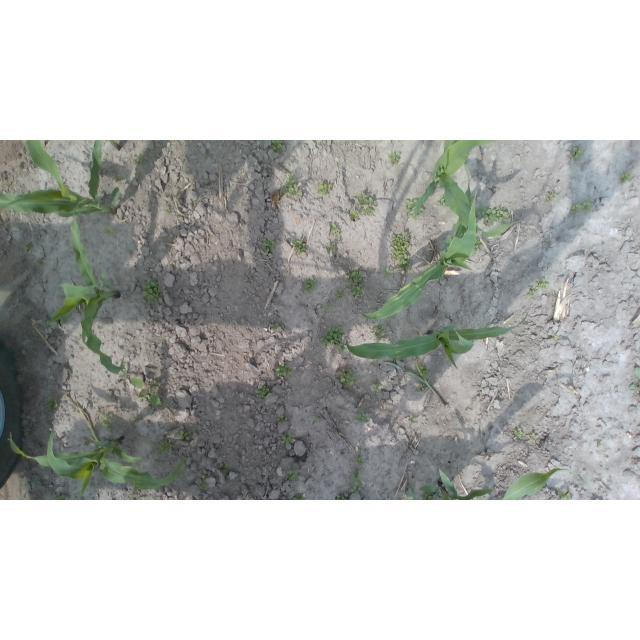Maize: (363, 165, 520, 319), (46, 198, 124, 374), (9, 428, 186, 500), (0, 140, 120, 216), (347, 313, 527, 363), (411, 140, 495, 220), (403, 466, 589, 500), (386, 358, 446, 406), (104, 140, 120, 150)
Weeds: (389, 231, 413, 274), (131, 377, 162, 408), (475, 205, 510, 227), (142, 276, 163, 305), (346, 267, 365, 297), (355, 192, 377, 216), (320, 327, 345, 348), (280, 174, 302, 197), (404, 198, 425, 220), (336, 368, 357, 389), (256, 386, 273, 405), (155, 439, 175, 455), (572, 201, 593, 215), (275, 362, 293, 378), (316, 181, 333, 197), (629, 368, 640, 391), (304, 276, 317, 295), (370, 324, 384, 341), (262, 237, 276, 253), (285, 464, 299, 480), (572, 147, 587, 161), (291, 237, 305, 252), (355, 445, 365, 466), (47, 396, 60, 412), (535, 278, 549, 291), (282, 430, 295, 444), (473, 237, 483, 254), (351, 468, 361, 485), (436, 196, 449, 209), (132, 152, 145, 165), (271, 141, 284, 154), (388, 152, 400, 165), (356, 412, 369, 424), (544, 193, 558, 204), (102, 415, 113, 429), (180, 430, 192, 442), (558, 488, 570, 500), (620, 173, 633, 184), (331, 223, 341, 237), (418, 365, 428, 378), (103, 228, 117, 237), (513, 428, 524, 439), (124, 490, 136, 500), (529, 432, 539, 444), (417, 383, 428, 393), (349, 210, 360, 220), (221, 464, 230, 476), (422, 492, 434, 501), (336, 288, 344, 301), (118, 369, 128, 379), (328, 241, 337, 252), (197, 483, 208, 492), (350, 487, 362, 495), (527, 288, 536, 298), (311, 413, 319, 424), (24, 243, 33, 252), (339, 344, 348, 353), (381, 269, 392, 276), (373, 384, 381, 393), (292, 494, 304, 500), (280, 416, 288, 425), (323, 302, 333, 309), (551, 332, 558, 341), (56, 493, 65, 500), (335, 495, 347, 500), (411, 416, 417, 424), (35, 261, 43, 267), (272, 324, 281, 329), (465, 154, 470, 163), (114, 174, 121, 180), (136, 415, 141, 421), (163, 208, 169, 213), (597, 444, 603, 449), (1, 172, 4, 177)
